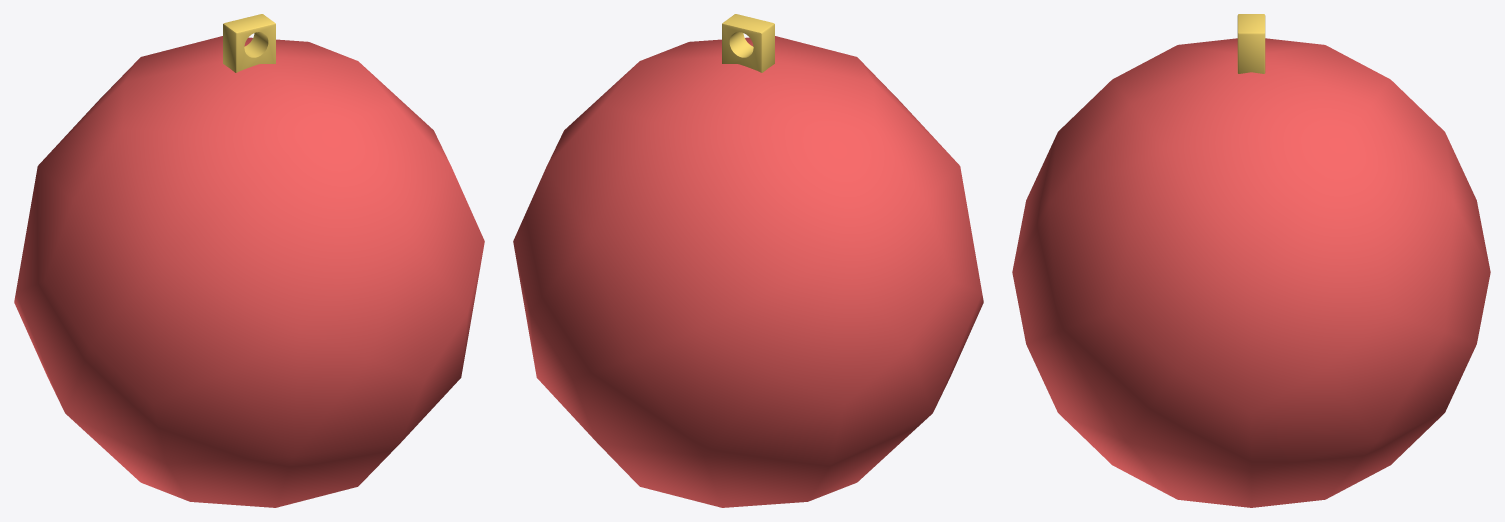
File: ornament.fbx
3 views of the same model, side by side, from view 1: azimuth 30°, elevation 25°; view 2: azimuth 150°, elevation 25°; view 3: azimuth 270°, elevation 25° (orthographic).
Visible parts, largest first — view 1: Ornament; view 2: Ornament; view 3: Ornament.
Boxes of the visible parts, x1,y1,x2,y2 form: Ornament: (14,14,484,507); Ornament: (513,14,983,507); Ornament: (1012,14,1490,507).
Size of the model in its own units: 3.69 by 3.99 by 3.72.
